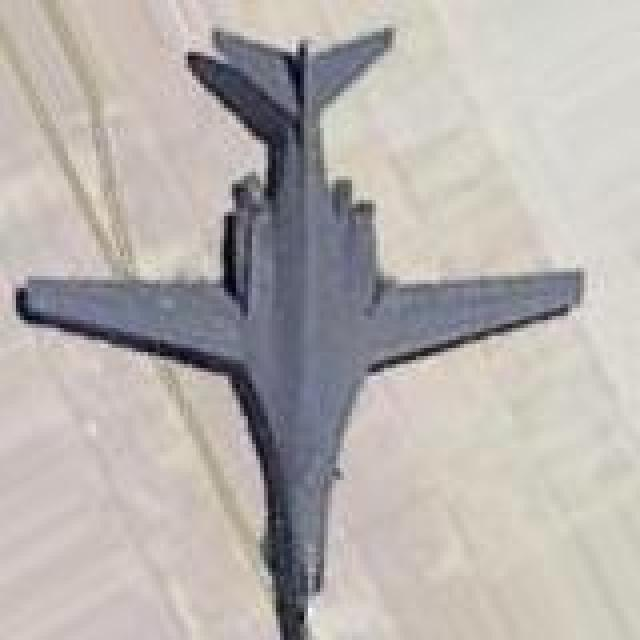B-1_TopDown: (8, 20, 584, 636)
